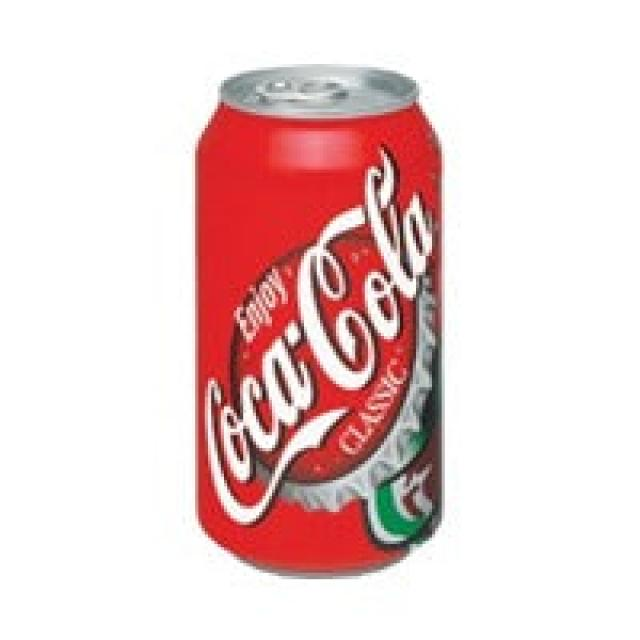cocacola: (189, 63, 445, 574)
